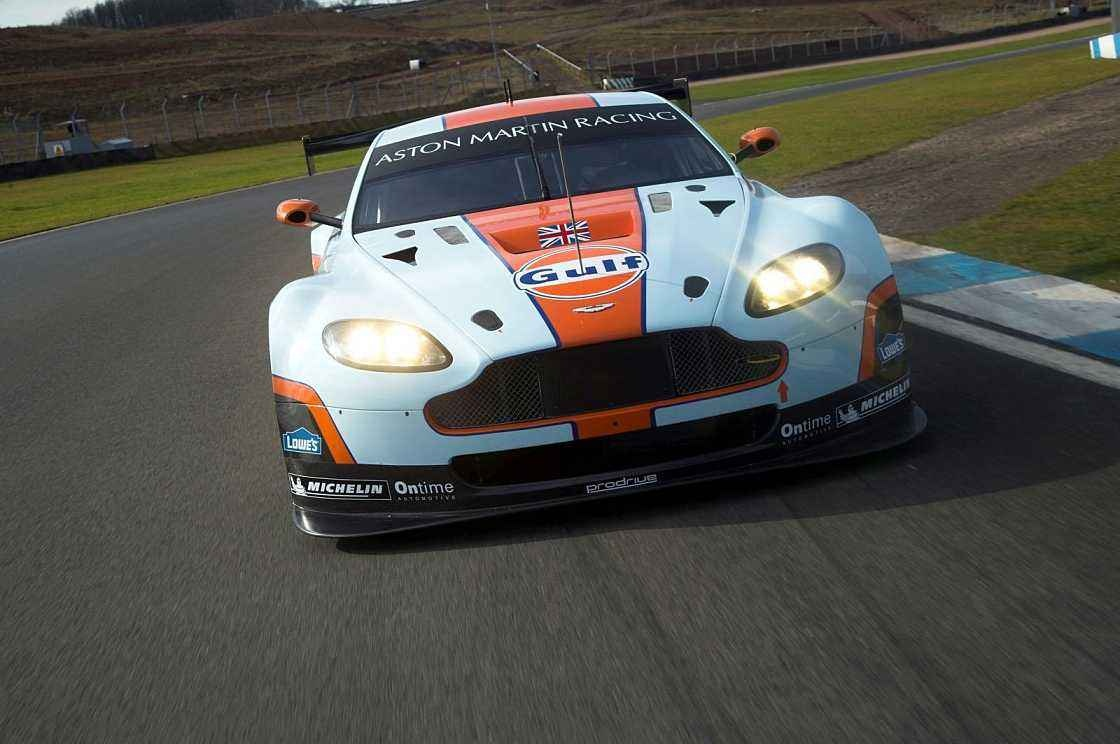racing car: (212, 67, 942, 530)
